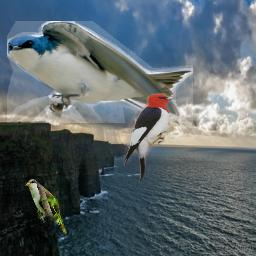Cuckoo: (23, 179, 69, 235)
Swallow: (7, 21, 193, 123)
Woodpecker: (123, 93, 178, 183)
